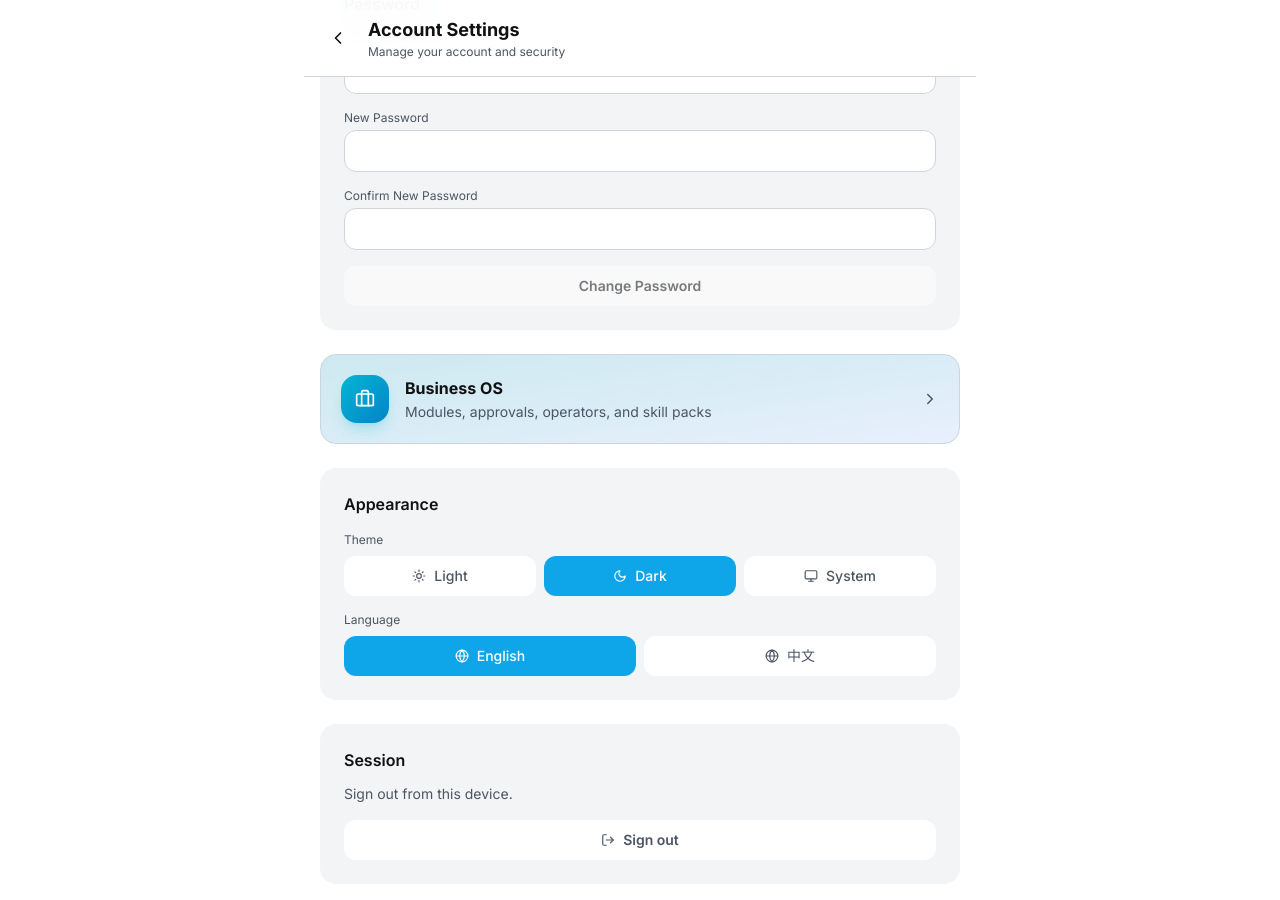
Test: Settings › shows sign out confirmation dialog
(page scrolled)
What coordinates should you click on to do the following:
click the button "Sign out"
I would click on:
 (640, 840)
Its box is x1=344 y1=820 x2=936 y2=860.
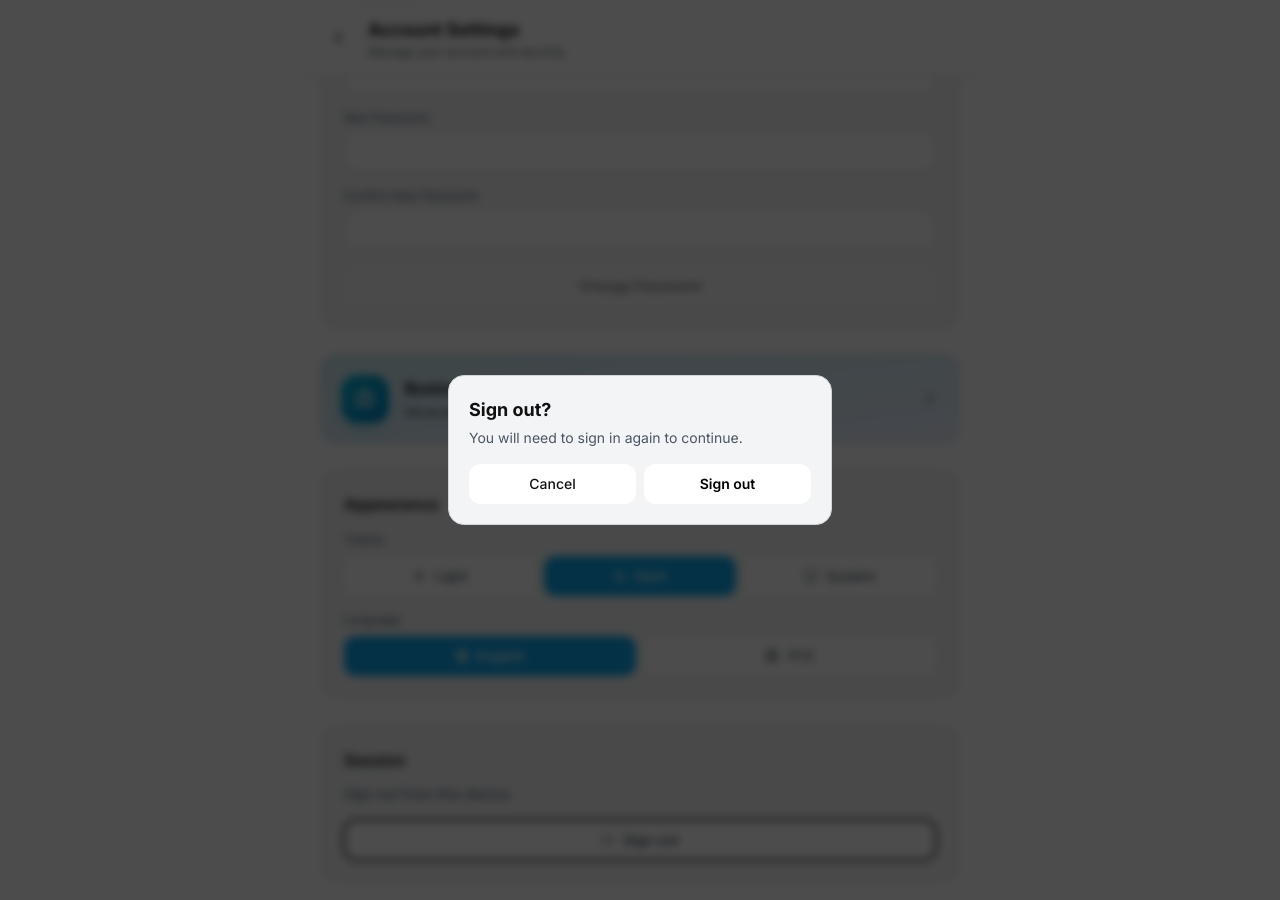
Check: the heading "Sign out?" is shown, box x1=469 y1=399 x2=551 y2=420
Check: the button "Cancel" is shown, box x1=469 y1=464 x2=636 y2=504
